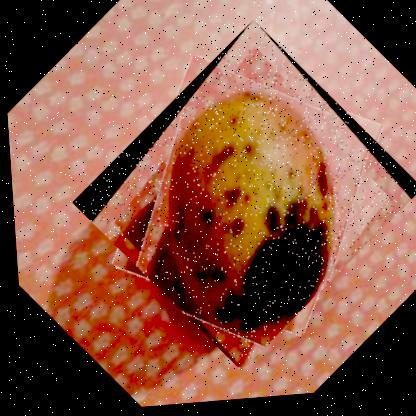mango_rotten: (59, 13, 415, 387)
